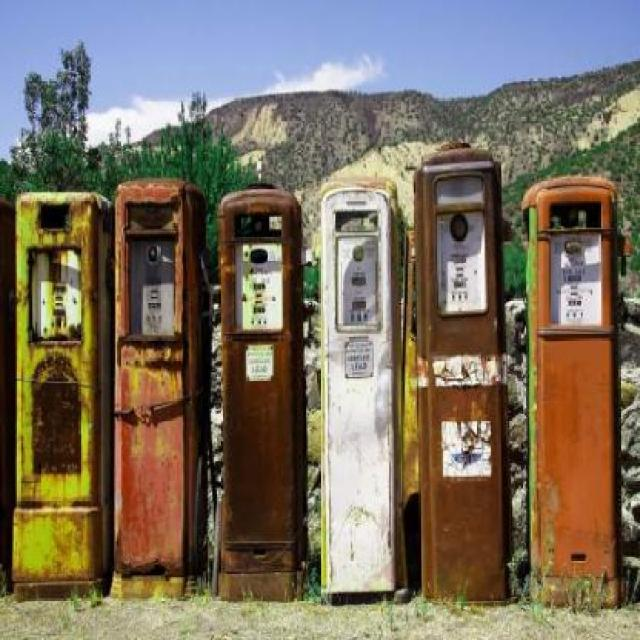corrosion: (8, 140, 624, 598)
